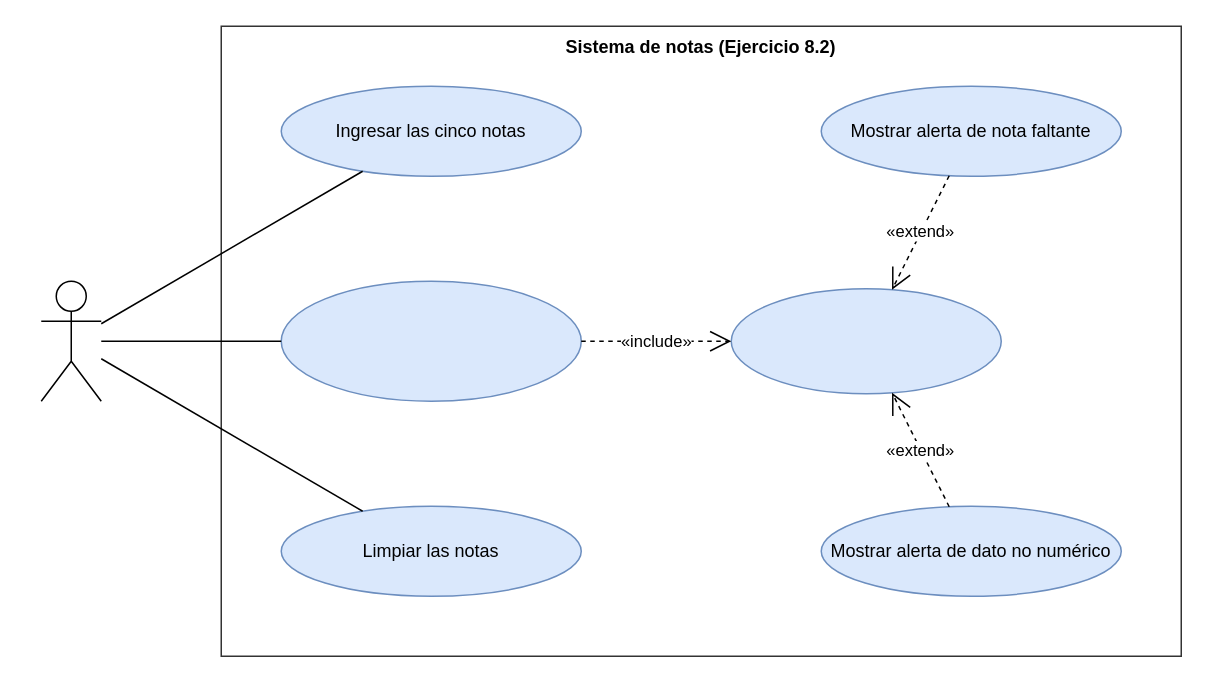
Some shapes in this 1208 by 683 pixel diagram are drawn without their labels. The box of each missing label's shape, as (x1, y1, x2, y2) in pixels:
Calcular promedio, desviación estándar, nota mayor y nota menor: (280, 280, 581, 401)
Estudiante: (40, 280, 101, 401)
Validar las notas ingresadas: (730, 287, 1001, 394)
